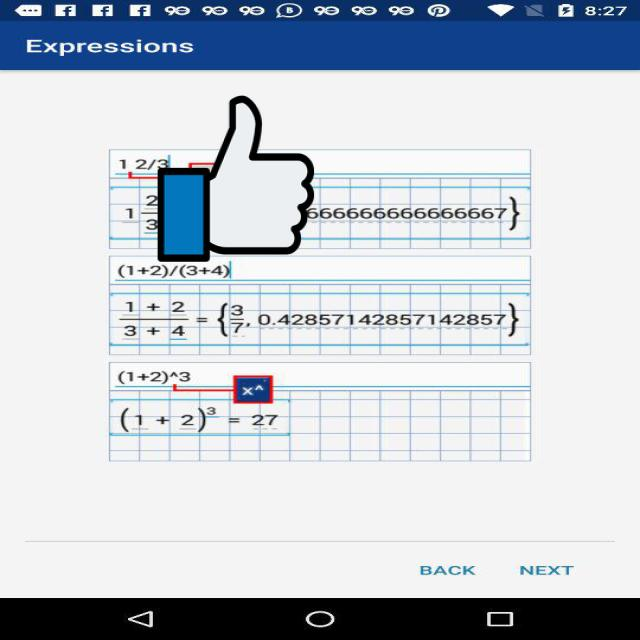privacy zuckering: (158, 92, 314, 265)
